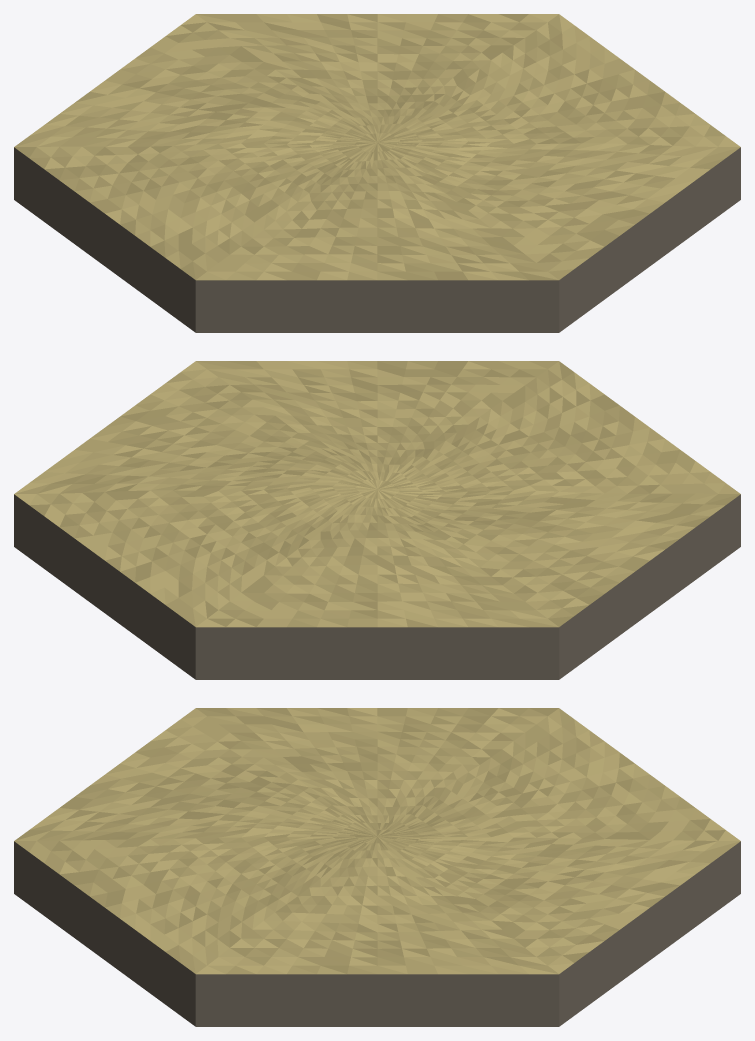
Rendered from TERRAIN_PLAINS_v00.fbx.
The picture shows the model from 3 angles, top to bottom: view 1: azimuth 30°, elevation 25°; view 2: azimuth 150°, elevation 25°; view 3: azimuth 270°, elevation 25°; orthographic projection.
Visible parts, largest first — view 1: TERRAIN_PLAINS_v00; view 2: TERRAIN_PLAINS_v00; view 3: TERRAIN_PLAINS_v00.
Boxes of the visible parts, bbox=[...] form: TERRAIN_PLAINS_v00: bbox=[14, 14, 740, 332]; TERRAIN_PLAINS_v00: bbox=[14, 361, 740, 679]; TERRAIN_PLAINS_v00: bbox=[14, 708, 740, 1026].
Bounding box in the file's own units: 173 × 18.41 × 200.
